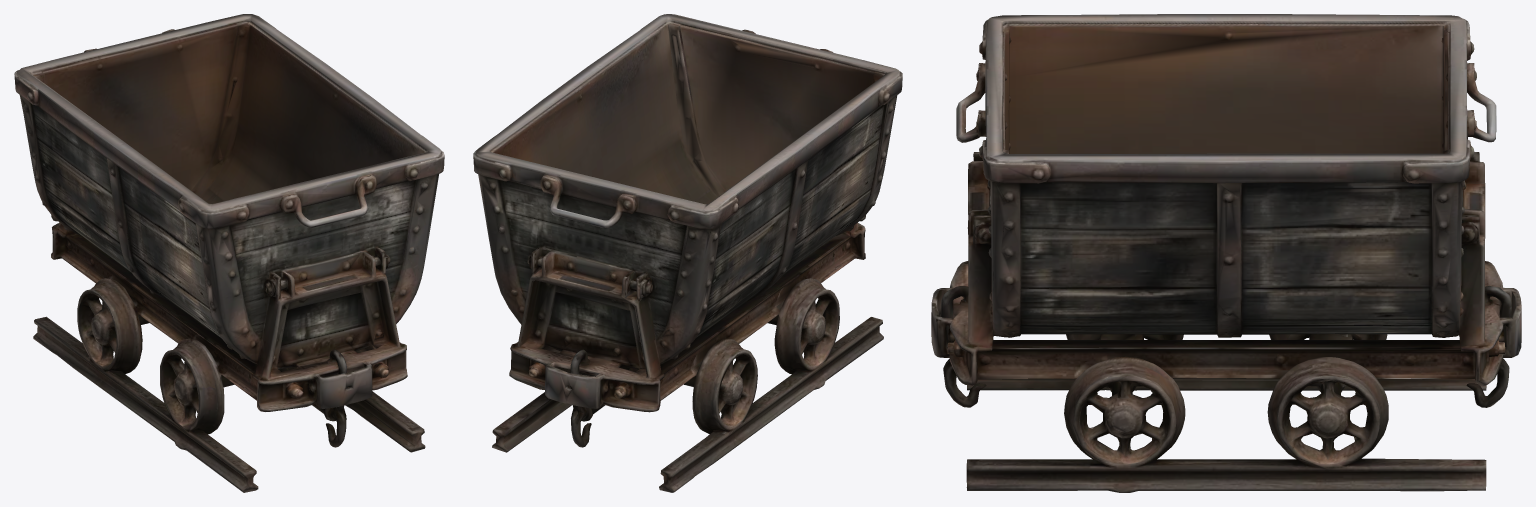
The model's file is mine_cart.glb.
3 views of the same model, side by side, from view 1: azimuth 30°, elevation 25°; view 2: azimuth 150°, elevation 25°; view 3: azimuth 270°, elevation 25° (orthographic). The views are drawn at different scales.
Visible parts, largest first — view 1: node_0; view 2: node_0; view 3: node_0.
Part boxes in pixels (left/top/right/bottom): node_0: left=14, top=14, right=444, bottom=492; node_0: left=473, top=14, right=902, bottom=492; node_0: left=931, top=14, right=1521, bottom=492.
Size of the model in its own units: 0.6161 by 0.6656 by 1.02.
1 material, 1 textured.
